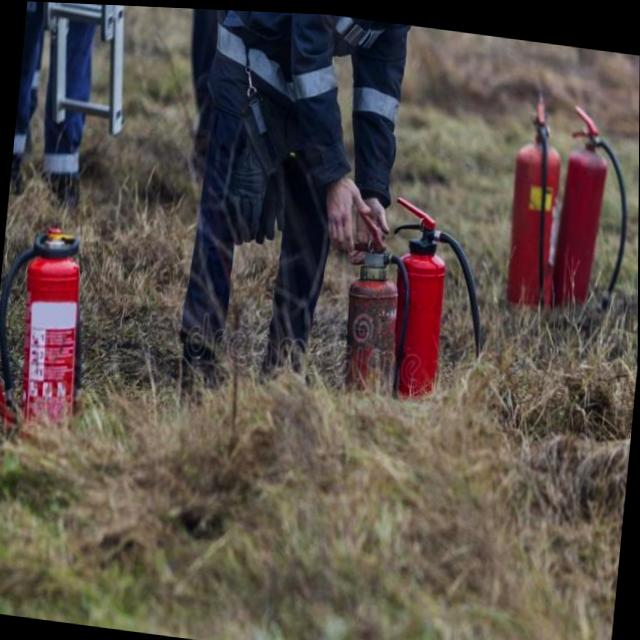FireExtinguisher: (371, 182, 502, 415), (0, 206, 105, 443), (545, 88, 640, 328), (490, 72, 576, 326), (320, 187, 414, 397)
